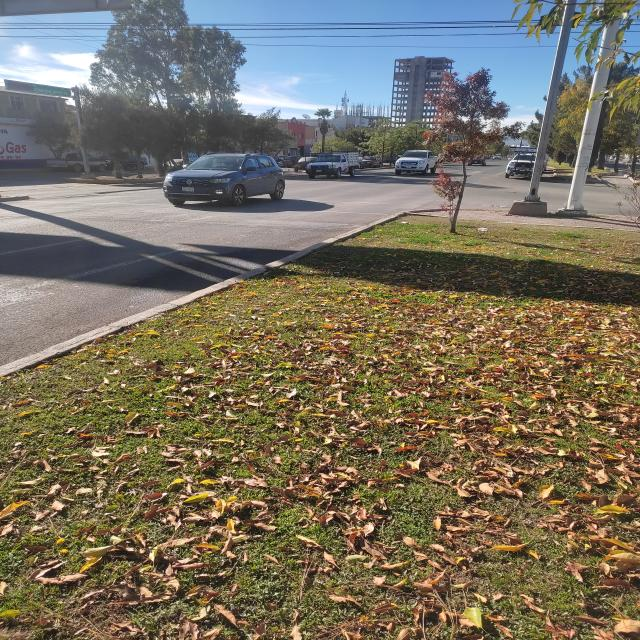Auto: (159, 144, 309, 213), (42, 143, 116, 178), (306, 146, 367, 184), (501, 144, 550, 185), (386, 148, 451, 178), (104, 140, 154, 174), (274, 148, 310, 170)
